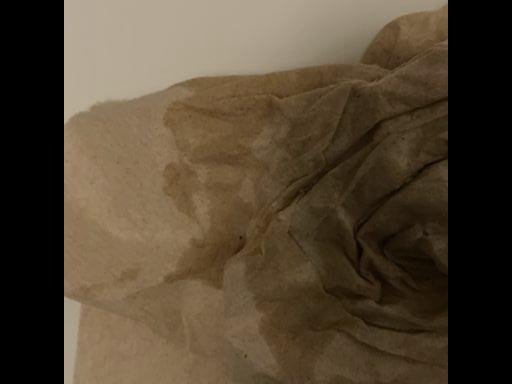trash: (69, 8, 445, 383)
